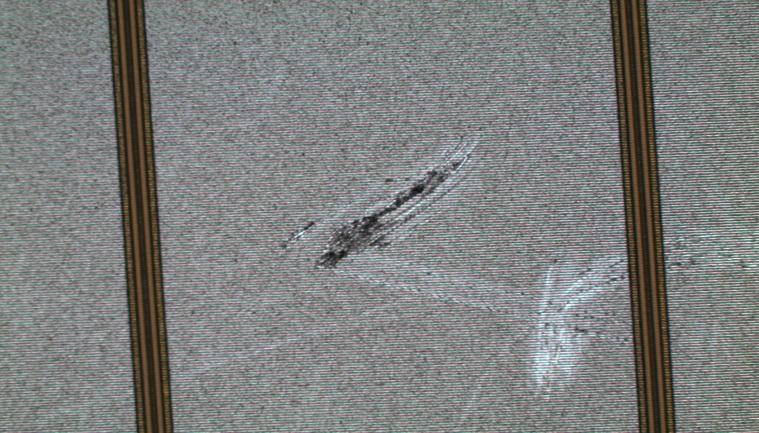SCRATCH: (17, 116, 759, 433)
